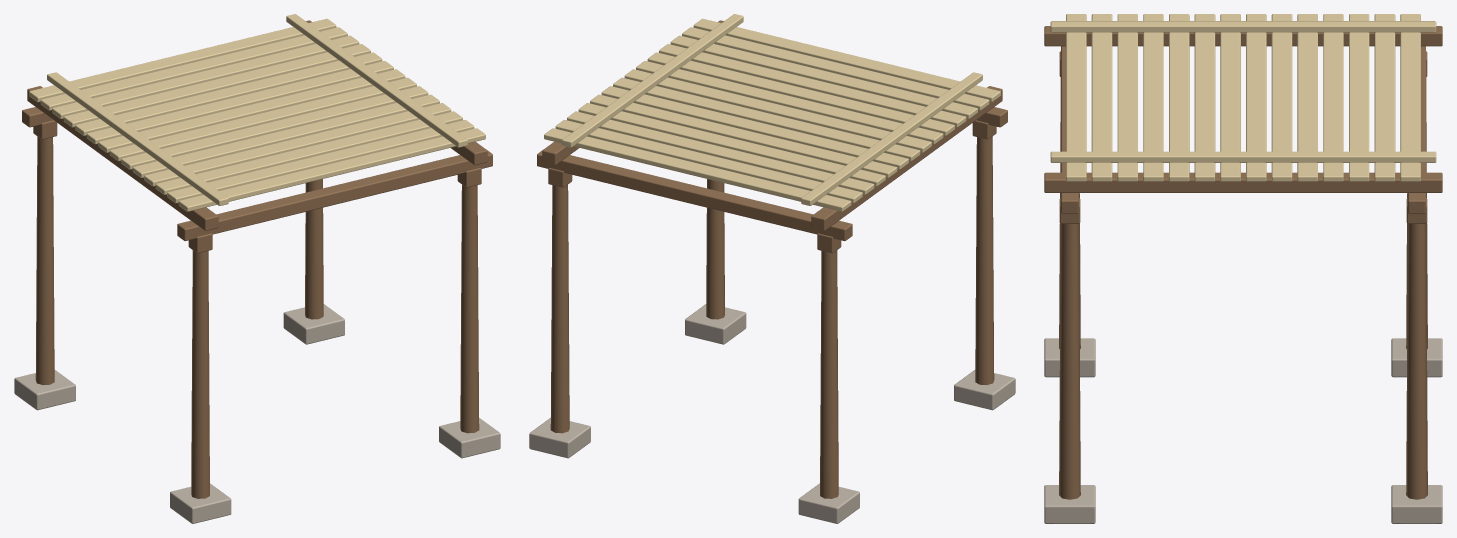
Rendered from shade-canopy-on-po-3de818af.glb.
3 views of the same model, side by side, from view 1: azimuth 30°, elevation 25°; view 2: azimuth 150°, elevation 25°; view 3: azimuth 270°, elevation 25° (orthographic). The views are drawn at different scales.
Visible parts, largest first — view 1: shade-canopy-on-poles; view 2: shade-canopy-on-poles; view 3: shade-canopy-on-poles.
Boxes of the visible parts, left/top/right/bottom form: shade-canopy-on-poles: left=14, top=14, right=500, bottom=523; shade-canopy-on-poles: left=529, top=14, right=1015, bottom=523; shade-canopy-on-poles: left=1044, top=14, right=1442, bottom=523.
Size of the model in its own units: 3.1 by 3.02 by 3.1.
